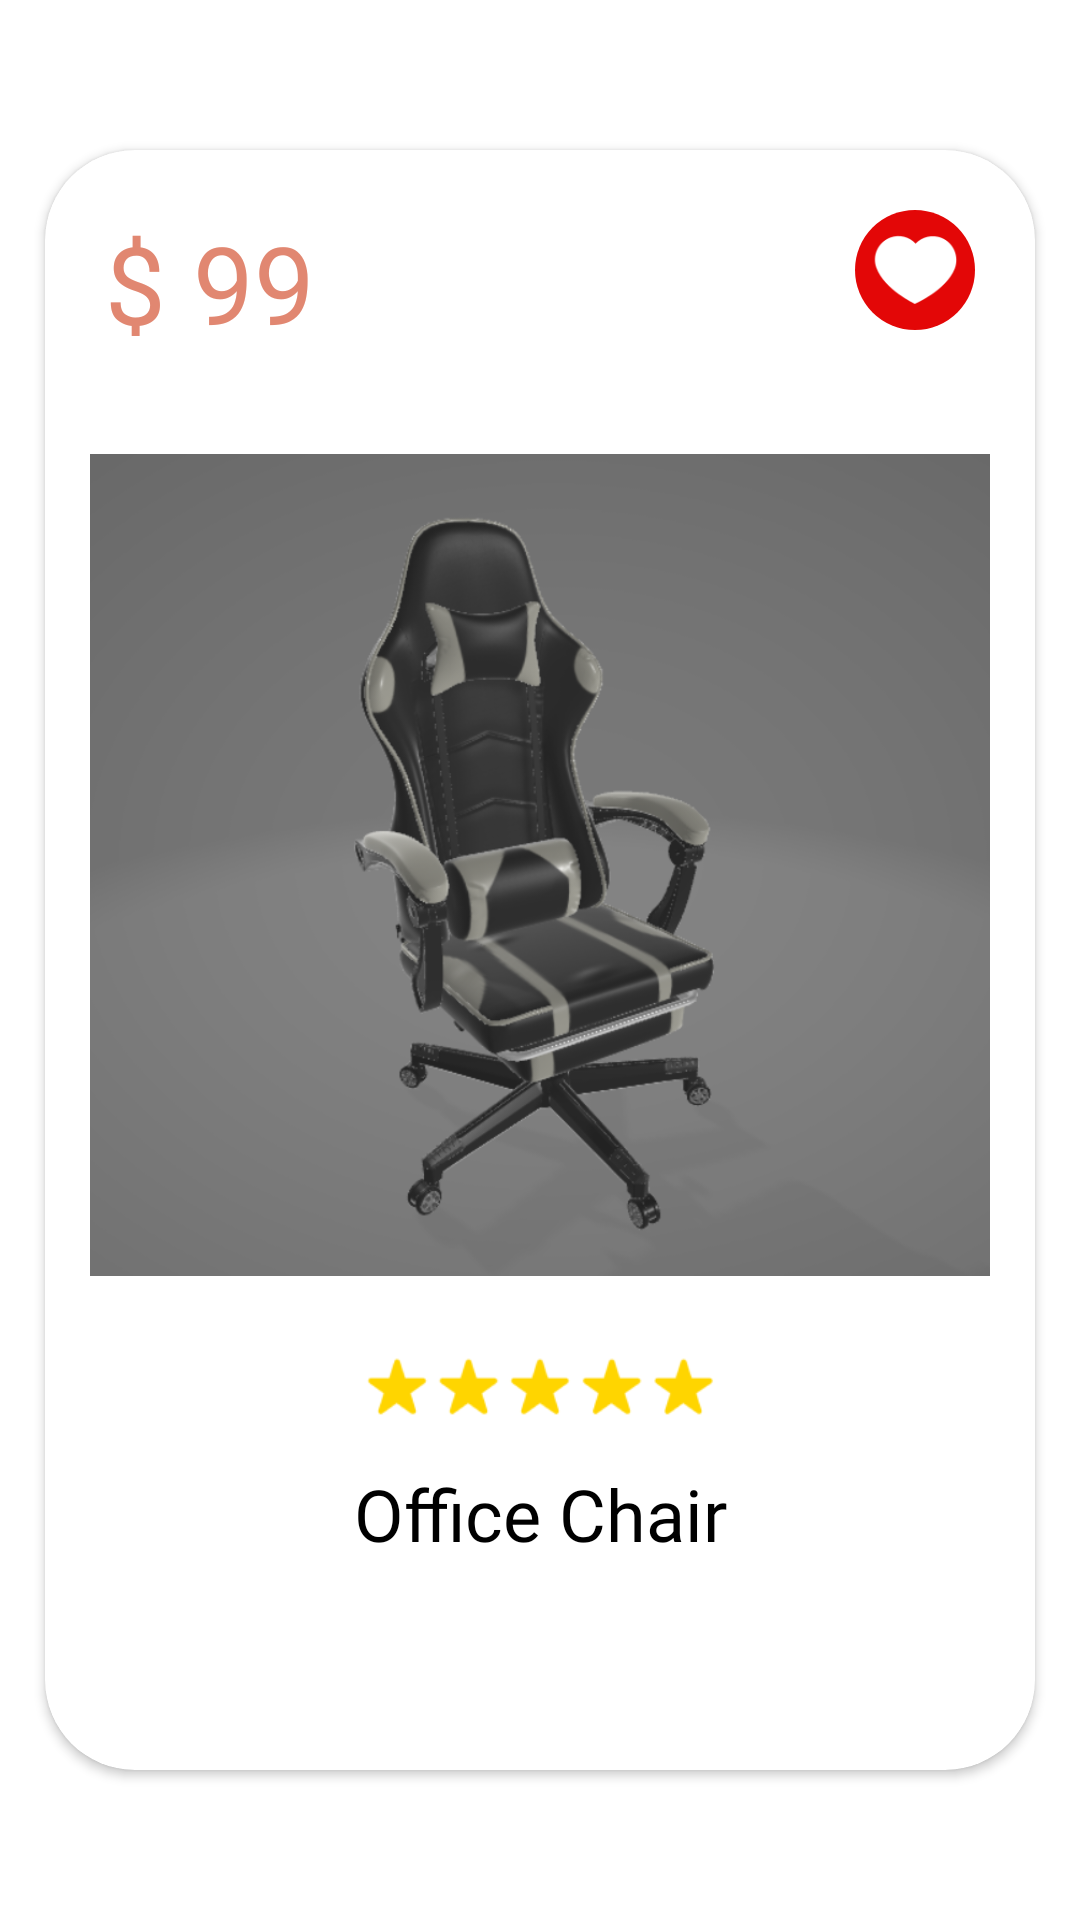

Icons on this 1080*1920 Android screen, each with its box as bbox(x1, y1, x2, y2):
heart: bbox(855, 210, 975, 330)
